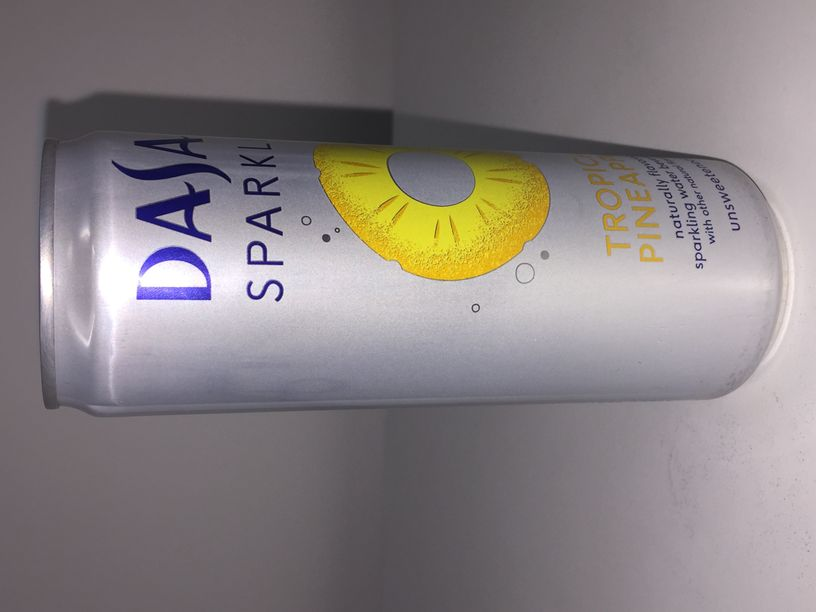pineapple: (38, 131, 791, 416)
